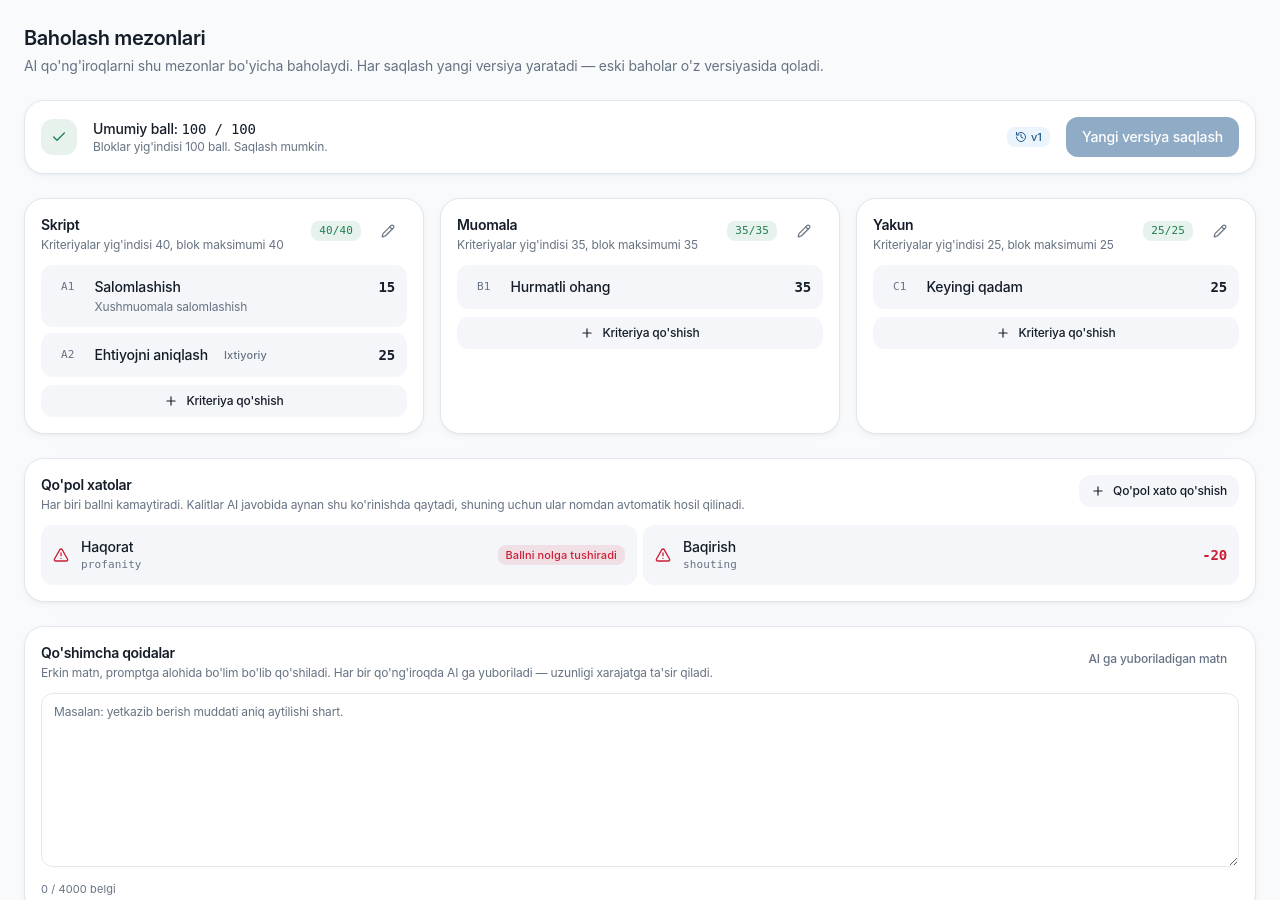
Test: the prompt and the history › shows what the model receives, with only one section editable
Step 1. Click the button "AI ga yuboriladigan matn" → (1158, 659), box [1076,643,1239,675]
(page scrolled)
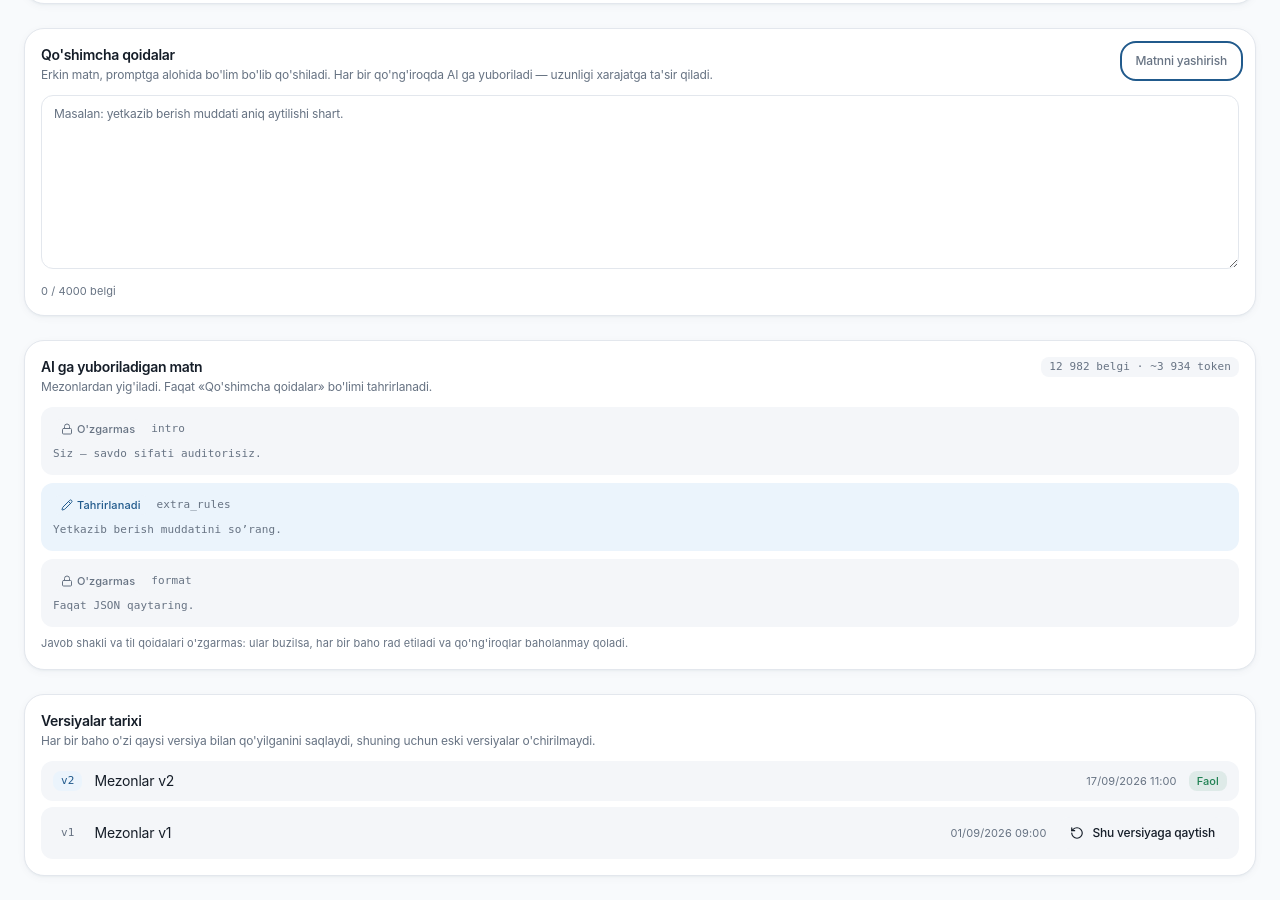
Expected: the text "Tahrirlanadi" is shown, [53,495,149,515]
Expected: the text "O'zgarmas" is shown 2 times, [53,419,143,439]; [53,571,143,591]
Expected: the text "Javob shakli va til qoidalari o'zgarmas: ular buzilsa, har bir baho rad etiladi va qo'ng'iroqlar baholanmay qoladi." is shown, [41,636,628,650]
